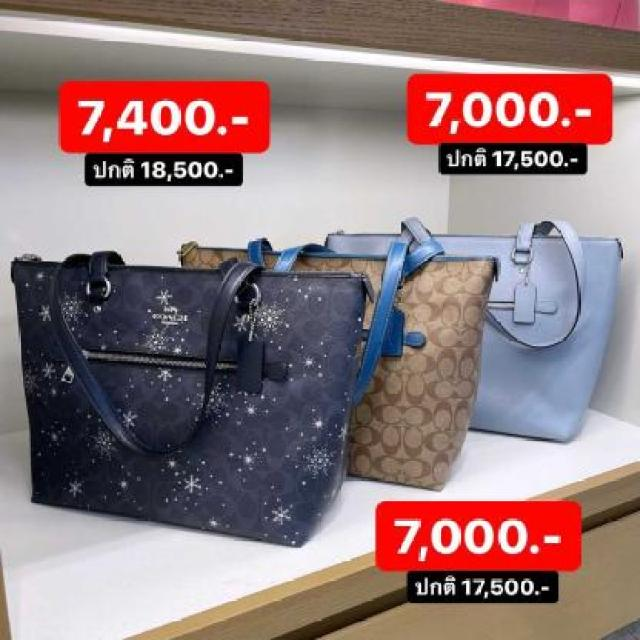Bag: (0, 233, 389, 549), (166, 238, 519, 514), (317, 210, 628, 467)
